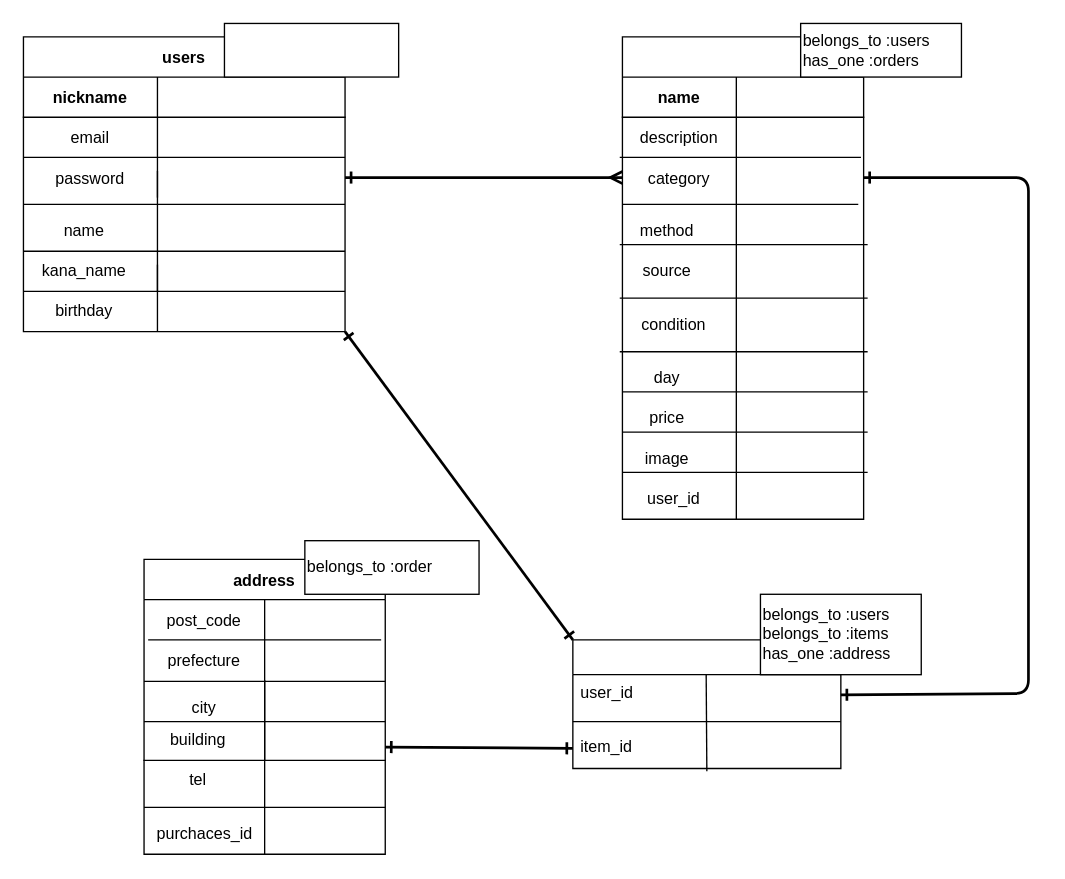
The diagram is 1065 pixels wide and 879 high, and some of its shapes have lost their labels. Each missing label, with the box of its shape:
has_many :items has_one :order: (223, 22, 399, 77)
items: (621, 36, 864, 519)
orders: (572, 639, 841, 768)
